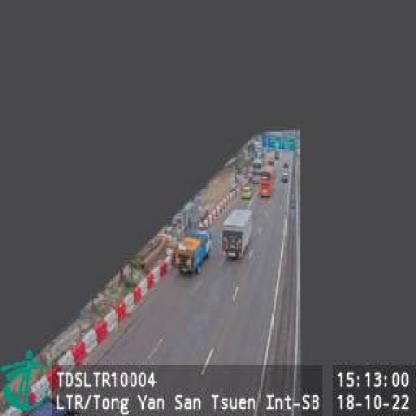Bus: (258, 164, 276, 198), (251, 156, 264, 183)
Car: (240, 184, 253, 201), (282, 170, 290, 182)
Truck: (175, 227, 211, 277), (222, 207, 255, 261)
